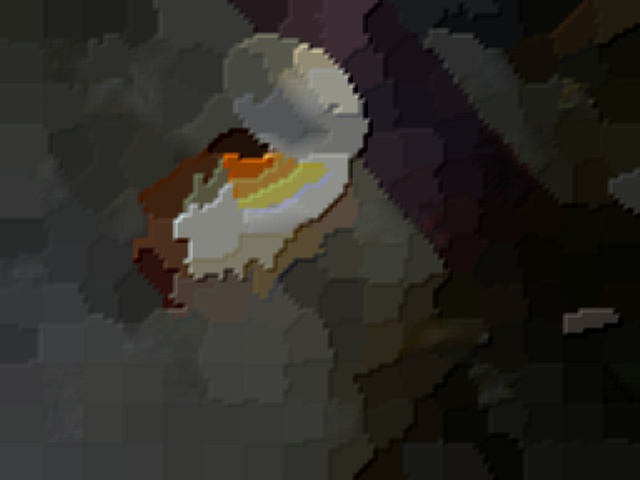two: (318, 90, 373, 137)
